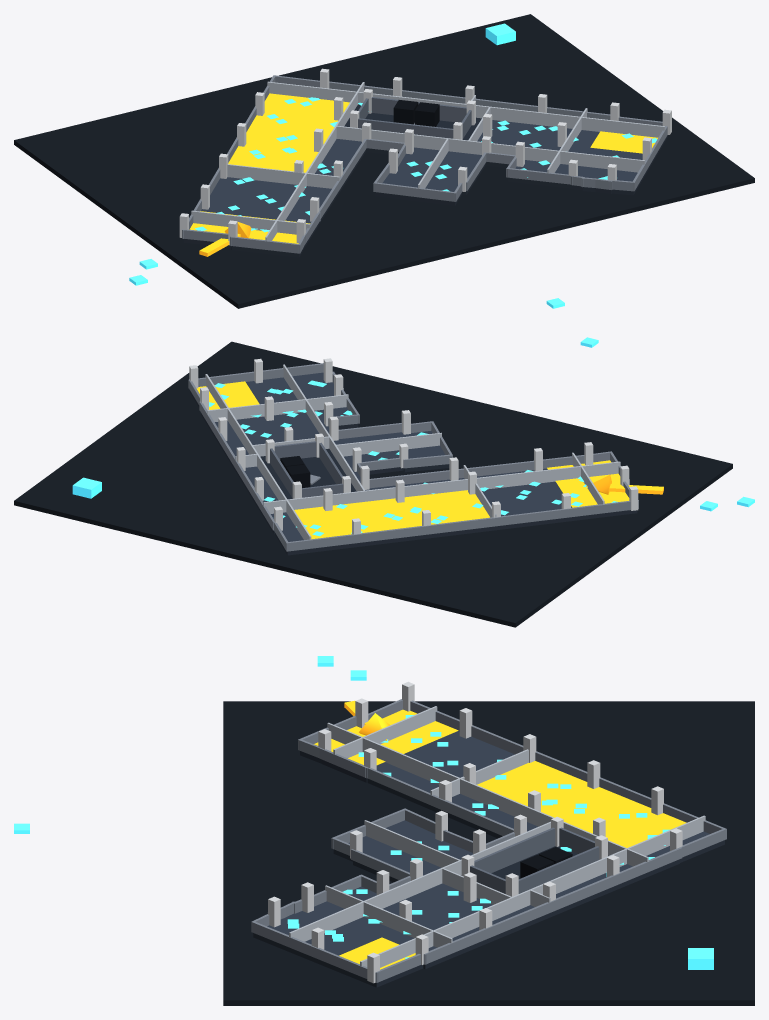
3 renders of one model, top to bottom at view 1: azimuth 30°, elevation 25°; view 2: azimuth 150°, elevation 25°; view 3: azimuth 270°, elevation 25°, orthographic. The views are drawn at different scales.
Parts seen in each view (by area): view 1: FireSight 140 New Montgomery St floor 2; view 2: FireSight 140 New Montgomery St floor 2; view 3: FireSight 140 New Montgomery St floor 2.
Boxes of the visible parts, x1,y1,x2,y2 form: FireSight 140 New Montgomery St floor 2: [14, 14, 754, 308]; FireSight 140 New Montgomery St floor 2: [14, 337, 754, 627]; FireSight 140 New Montgomery St floor 2: [14, 656, 754, 1005].
Size of the model in its own units: 0.7889 by 0.043 by 0.7372.
